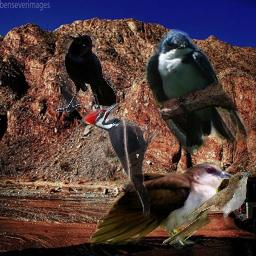Crow: (56, 32, 116, 114)
Cuckoo: (90, 106, 238, 251), (162, 170, 255, 244)
Swallow: (143, 29, 252, 160)
Woodpecker: (82, 103, 160, 217)
